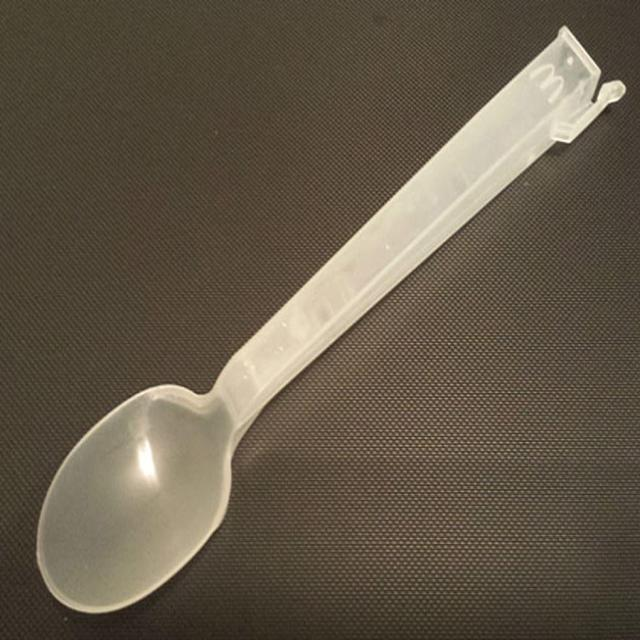spoon: (27, 22, 630, 627)
